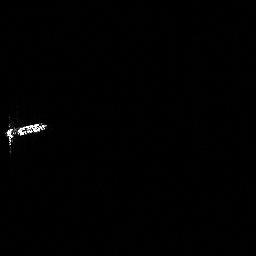ship: (6, 122, 48, 139)
